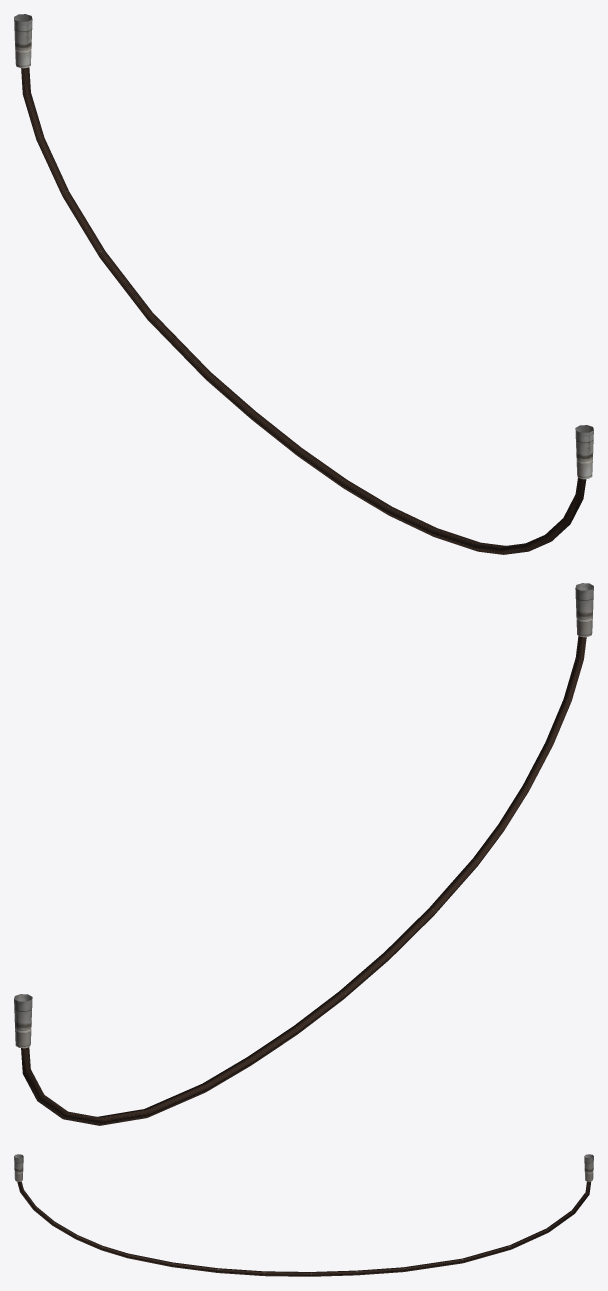
File: EQP_CABLES_000.FBX
3 views of the same model, one above another, from view 1: azimuth 30°, elevation 25°; view 2: azimuth 150°, elevation 25°; view 3: azimuth 270°, elevation 25° (orthographic). The views are drawn at different scales.
Visible parts, largest first — view 1: CABLES_000; view 2: CABLES_000; view 3: CABLES_000.
Part boxes in pixels (x1,y1,x2,y2): CABLES_000: [14, 14, 593, 554]; CABLES_000: [14, 583, 593, 1125]; CABLES_000: [14, 1154, 593, 1276].
Size of the model in its own units: 7.88 by 107 by 468.
1 material, 1 textured.
